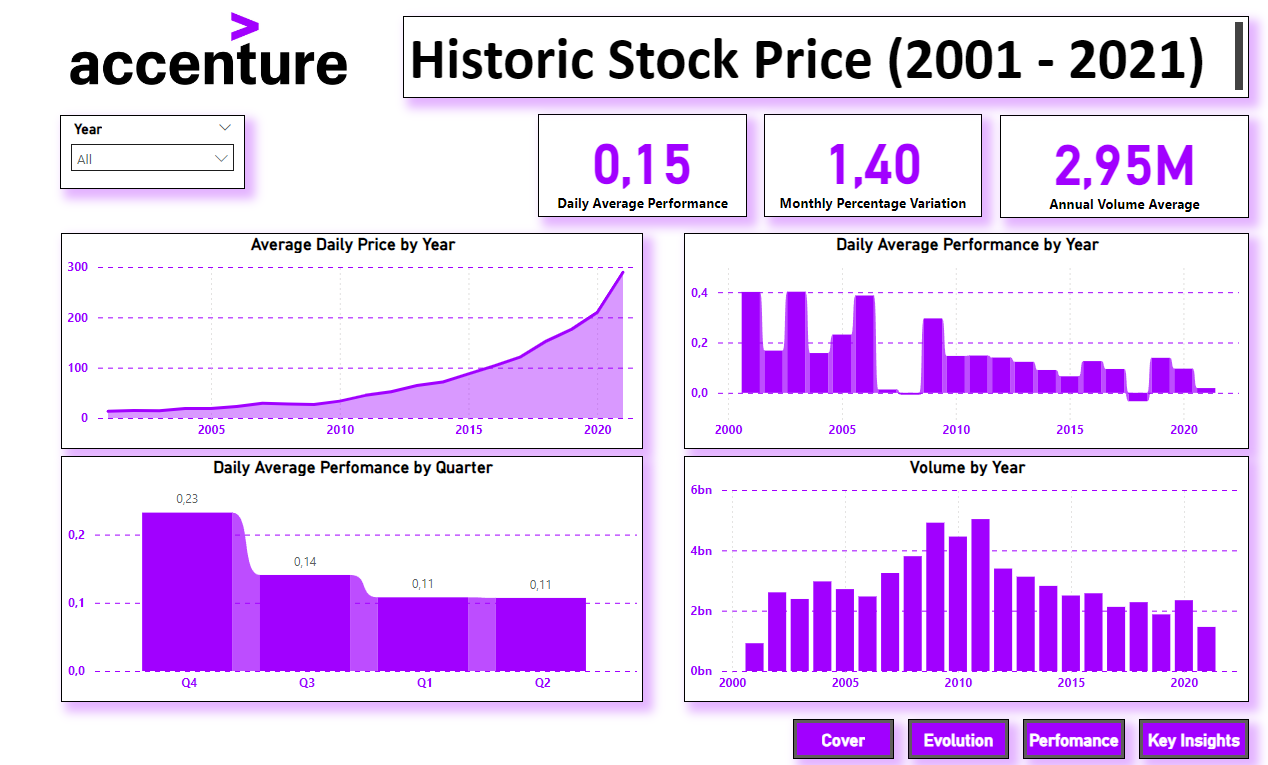

The dashboard page shown, as its layout file describes it:
{"tool":"powerbi","page":{"name":"Perfomance","canvas":[1280,770],"ordinal":2},"visuals":[{"type":"card","fields":{"Values":["stock_history.Rendimiento_Diario_Promedio"]},"box":[546,115.1,209.1,102.4],"z":0},{"type":"card","fields":{"Values":["stock_history.Variacion_Porcentual_Mensual"]},"box":[772,115.1,217.6,102.4],"z":1000},{"type":"card","fields":{"Values":["stock_history.Promedio_Volumen_Anual"]},"box":[1007.5,116.2,249.2,102.4],"z":2000},{"type":"slicer","fields":{"Values":["DateTable.Year"]},"box":[68.5,116.3,184.8,73.9],"z":3000},{"type":"image","box":[35.9,7.6,360.9,83.7],"z":4000},{"type":"textbox","box":[411.4,16.5,845.2,82.7],"z":5000},{"type":"lineChart","title":"Average Daily Price by Year","fields":{"Category":["DateTable.Date.Variation.Date Hierarchy.Year","DateTable.Date.Variation.Date Hierarchy.Quarter","DateTable.Date.Variation.Date Hierarchy.Month","DateTable.Date.Variation.Date Hierarchy.Day"],"Y":["Avg(stock_history.Precio Promedio Diario)"]},"box":[68.6,234.5,581.9,215.4],"z":6000},{"type":"columnChart","title":"Daily Average Performance by Year","fields":{"Y":["stock_history.Rendimiento_Diario_Promedio"],"Category":["DateTable.Year"]},"box":[691.7,234.5,565,215.4],"z":7000},{"type":"columnChart","title":"Daily Average Perfomance by Quarter","fields":{"Category":["DateTable.Quarter"],"Y":["stock_history.Rendimiento_Diario_Promedio"]},"box":[68.6,457.3,581.9,246.1],"z":8000},{"type":"clusteredColumnChart","fields":{"Category":["DateTable.Month","DateTable.Year"],"Y":["Sum(stock_history.Volume)"]},"box":[691.7,457.3,565,246.1],"z":9000},{"type":"actionButton","title":"Cover","box":[1031.3,720.5,101.2,39.8],"z":10000},{"type":"actionButton","title":"Cover","box":[915.7,720.5,101.2,39.8],"z":11000},{"type":"actionButton","title":"Cover","box":[801.2,720.5,101.2,39.8],"z":12000},{"type":"actionButton","title":"Key Insights","box":[1146.9,720.3,110.2,39.8],"z":13000}]}

Visuals, with their boxes in screenshot pixels (x1, y1, x2, y2), scaled from the page's 1280x770 canvas onto the 1268x765 screenshot:
card - stock_history.Rendimiento_Diario_Promedio: (541,114,748,216)
card - stock_history.Variacion_Porcentual_Mensual: (765,114,980,216)
card - stock_history.Promedio_Volumen_Anual: (998,115,1245,217)
slicer - DateTable.Year: (68,116,251,189)
image: (36,8,393,91)
textbox: (408,16,1245,99)
"Average Daily Price by Year" lineChart: (68,233,644,447)
"Daily Average Performance by Year" columnChart: (685,233,1245,447)
"Daily Average Perfomance by Quarter" columnChart: (68,454,644,699)
clusteredColumnChart - DateTable.Month x DateTable.Year: (685,454,1245,699)
"Cover" actionButton: (1022,716,1122,755)
"Cover" actionButton: (907,716,1007,755)
"Cover" actionButton: (794,716,894,755)
"Key Insights" actionButton: (1136,716,1245,755)
